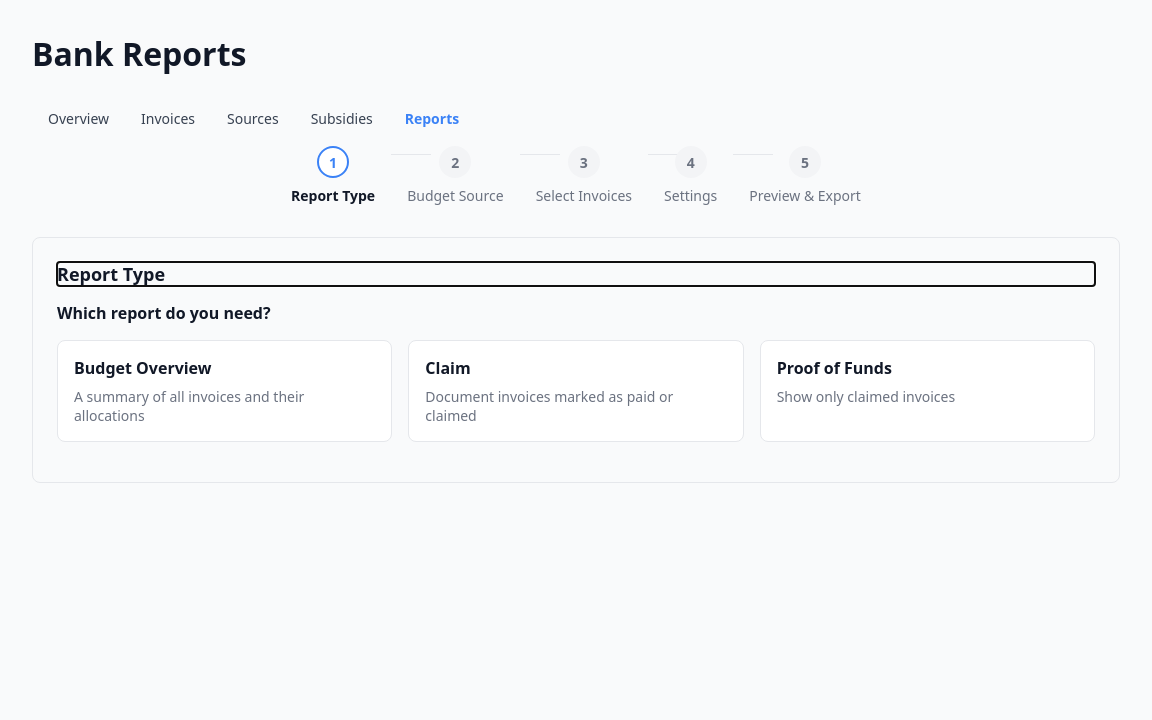
Scenario: ReportWizardPage — AI generation (Story #1901, revised by #1931) › availability (single llmEnabled gate, #1931) › renders no AI-related control at all on step 4 (the old toggle is gone, #1931)
Expected: the element named "Which report do you need?" is shown, [57,340,1095,442]
Click the radio button labelled "Claim Document invoices marked as paid or claimed".
click(576, 391)  # box [408,340,744,442]
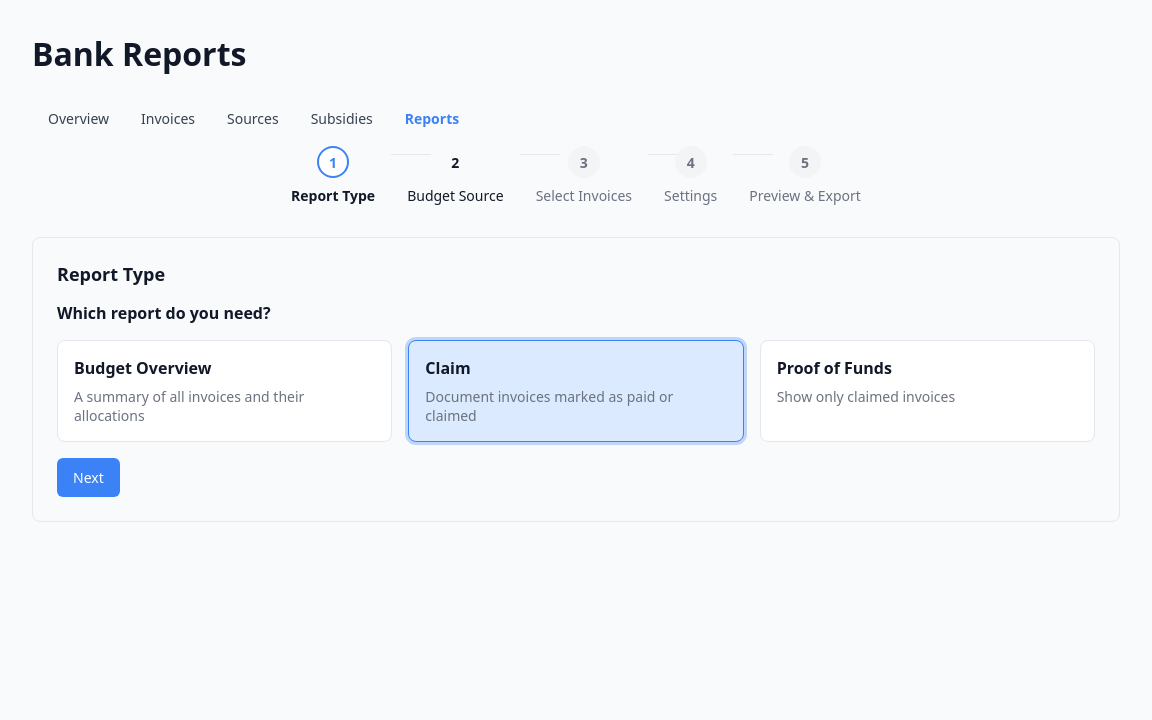
Click the button "Next".
click(88, 478)  # box [57,458,120,497]
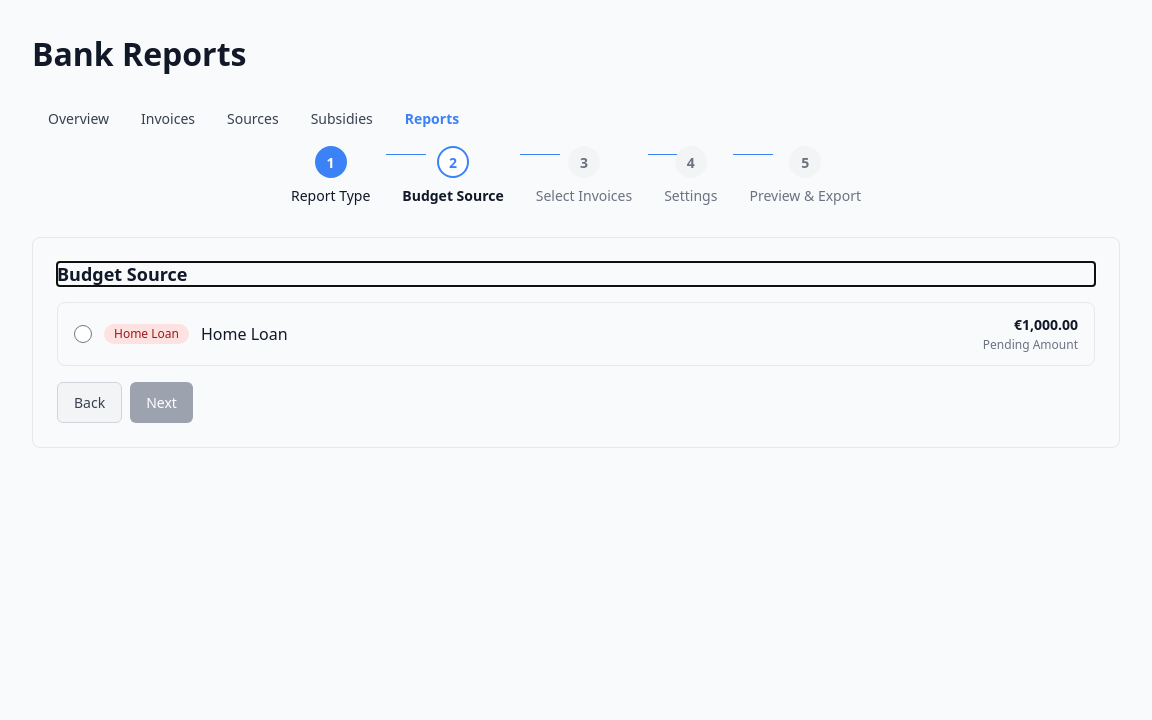
Click the radio button.
click(83, 334)  # box [74,325,92,343]
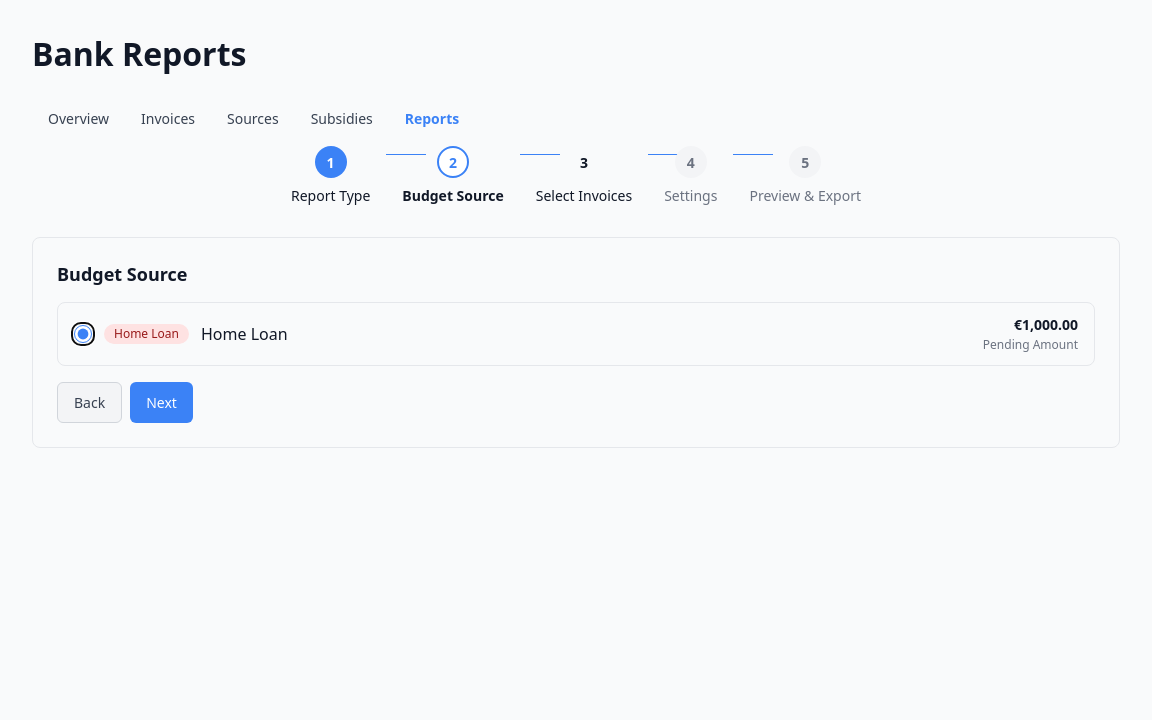
Expected: the button "Next" is enabled
Click the button "Next".
click(162, 402)  # box [130,382,193,423]
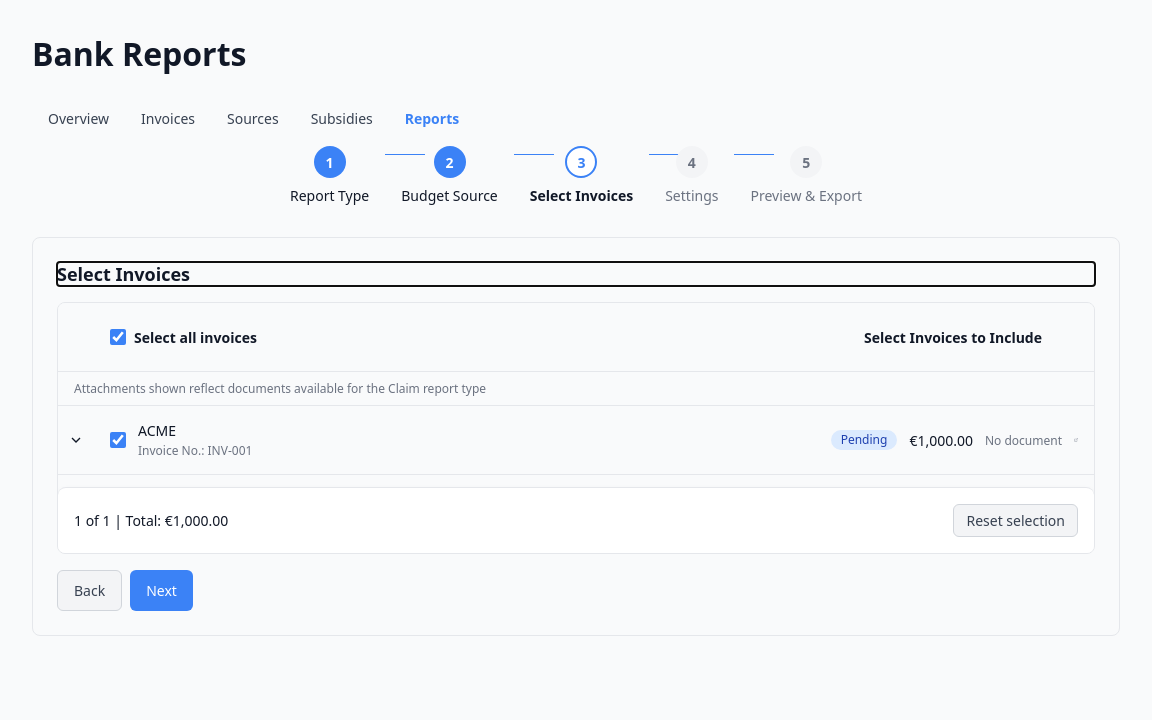
Expected: the text "ACME" is shown, [138,421,176,440]
Click the button "Next".
click(162, 590)  # box [130,570,193,611]
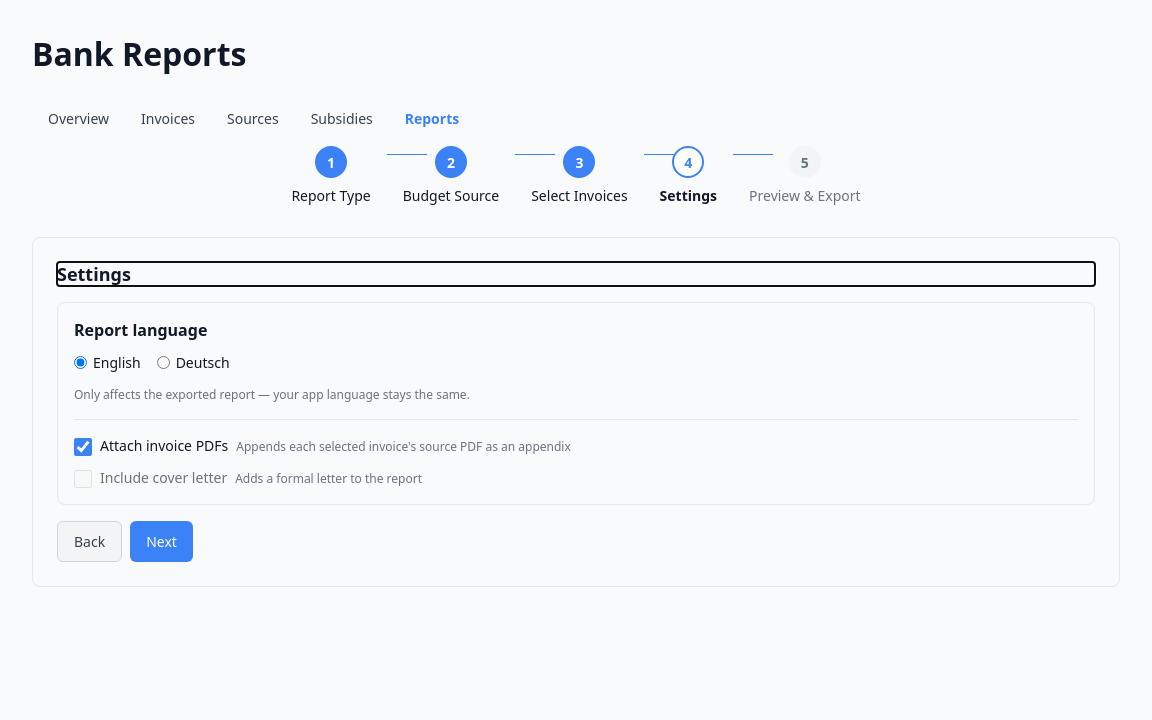
Expected: the text "ai" is gone
